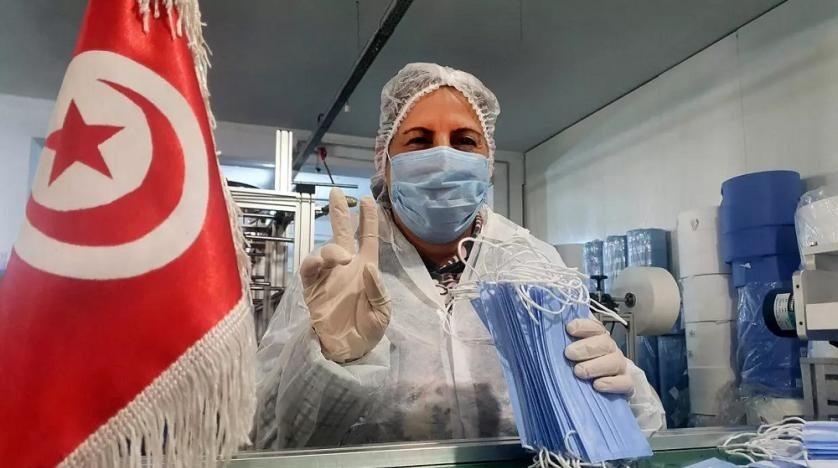face_with_mask: (375, 59, 496, 246)
